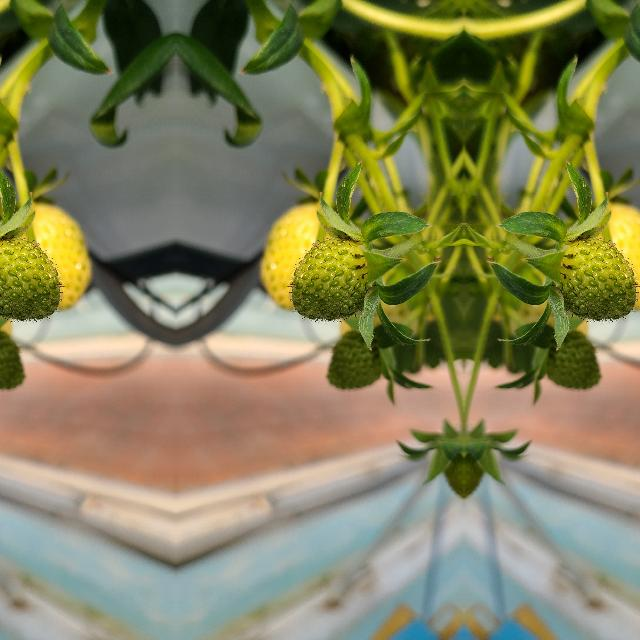Health_25: (290, 239, 366, 319), (560, 239, 636, 319), (0, 239, 60, 319)
